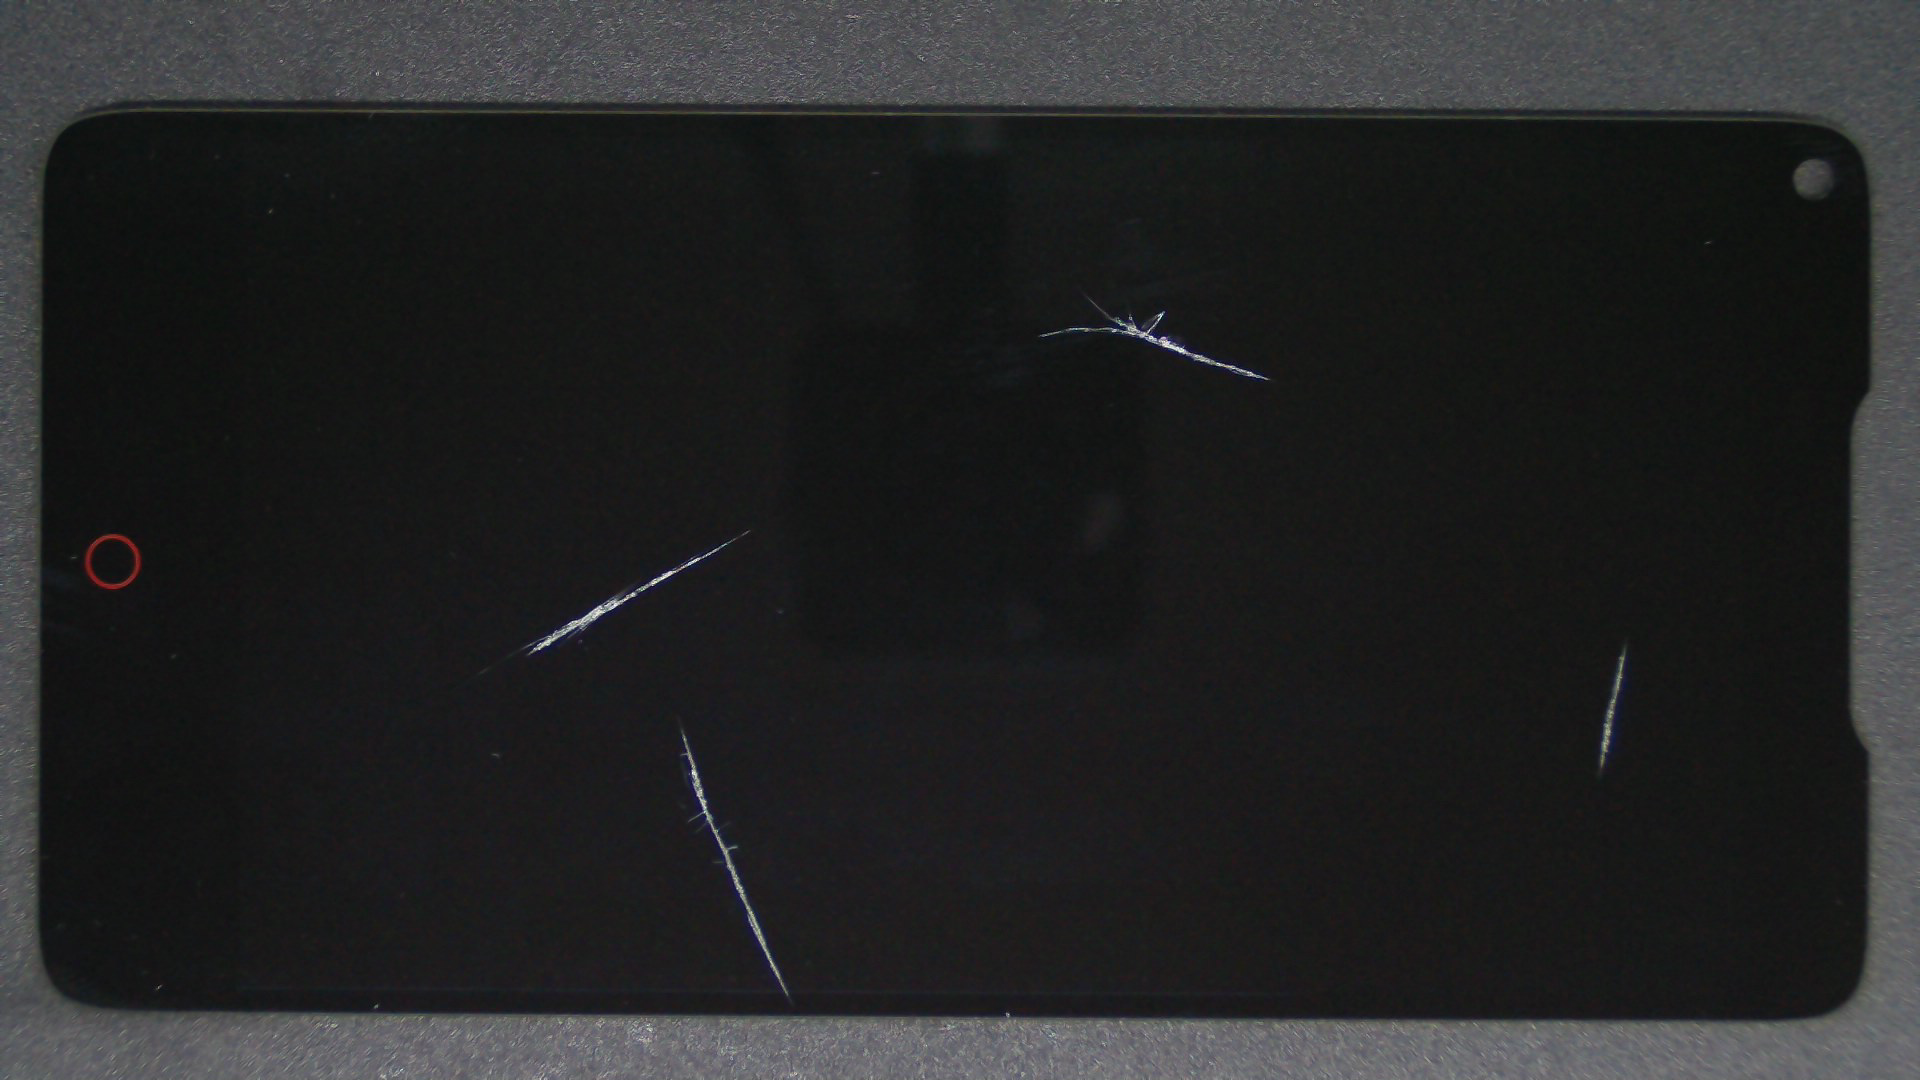defect: (679, 727, 790, 1000), (521, 529, 750, 657), (1036, 294, 1271, 381), (1598, 646, 1627, 770)
